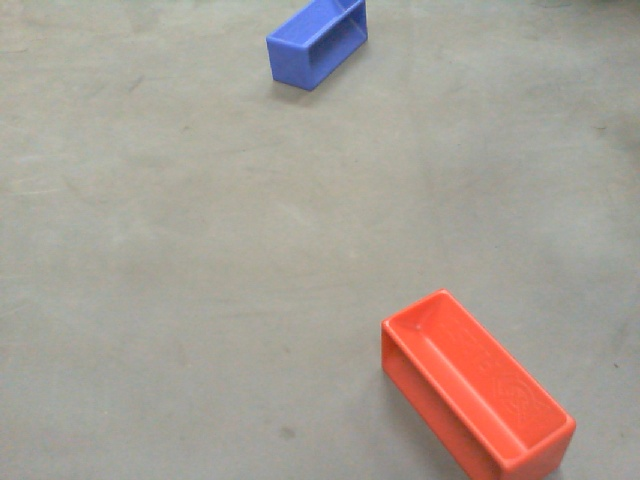BlueSample: (261, 1, 377, 90)
RedSample: (377, 280, 584, 480)
